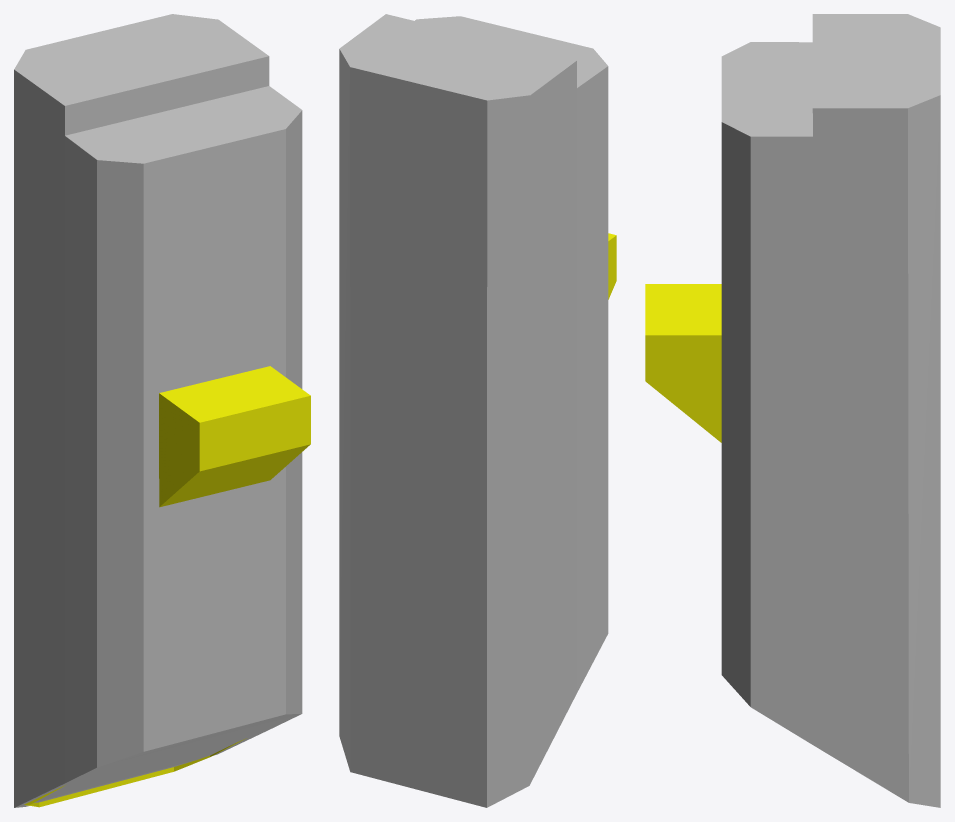
Rendered from sm_hana_pms_lpr_camera.glb.
3 views of the same model, side by side, from view 1: azimuth 30°, elevation 25°; view 2: azimuth 150°, elevation 25°; view 3: azimuth 270°, elevation 25° (orthographic). The views are drawn at different scales.
Parts seen in each view (by area): view 1: sm_color_common, sm_hana_pms_lpr_camera; view 2: sm_color_common, sm_hana_pms_lpr_camera; view 3: sm_color_common, sm_hana_pms_lpr_camera.
Boxes of the visible parts, x1,y1,x2,y2 form: sm_color_common: [14, 14, 302, 807]; sm_hana_pms_lpr_camera: [24, 366, 310, 807]; sm_color_common: [339, 14, 608, 807]; sm_hana_pms_lpr_camera: [608, 233, 616, 299]; sm_color_common: [721, 14, 940, 807]; sm_hana_pms_lpr_camera: [645, 284, 721, 442].
Bounding box in the file's own units: 0.365 × 1.29 × 0.4817.
Materials: 2 (1 with a texture image).
